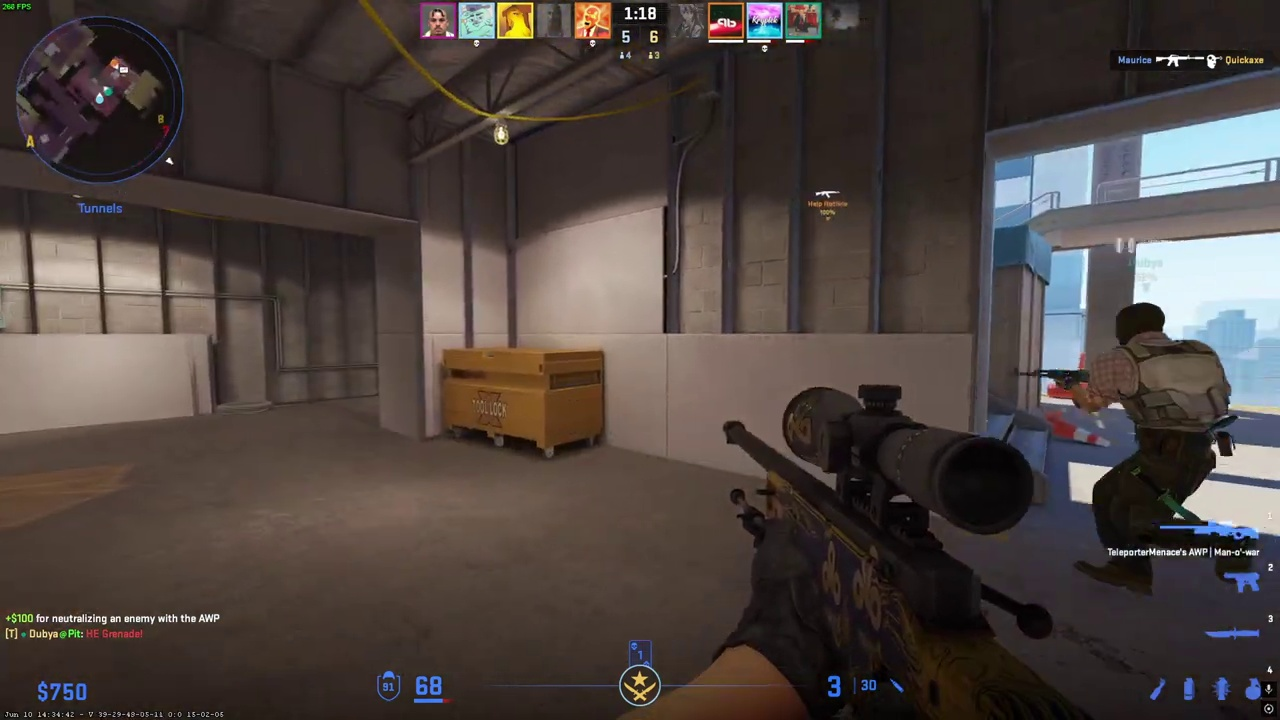Terrorist: (1073, 300, 1227, 598)
